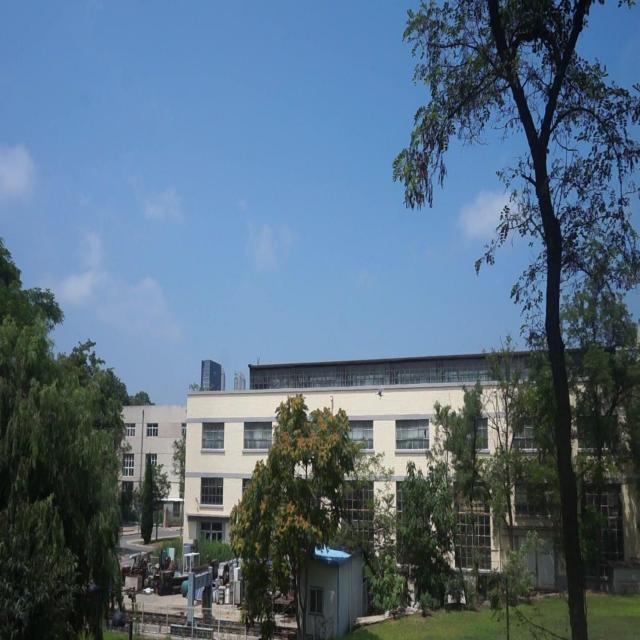UAV: (375, 387, 384, 399)
